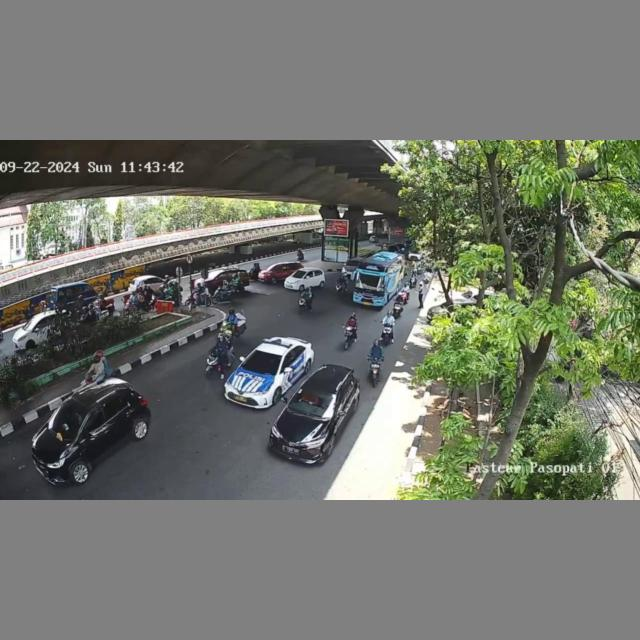windshield: (43, 403, 89, 437), (287, 387, 338, 416), (240, 349, 281, 375), (290, 270, 306, 278)
